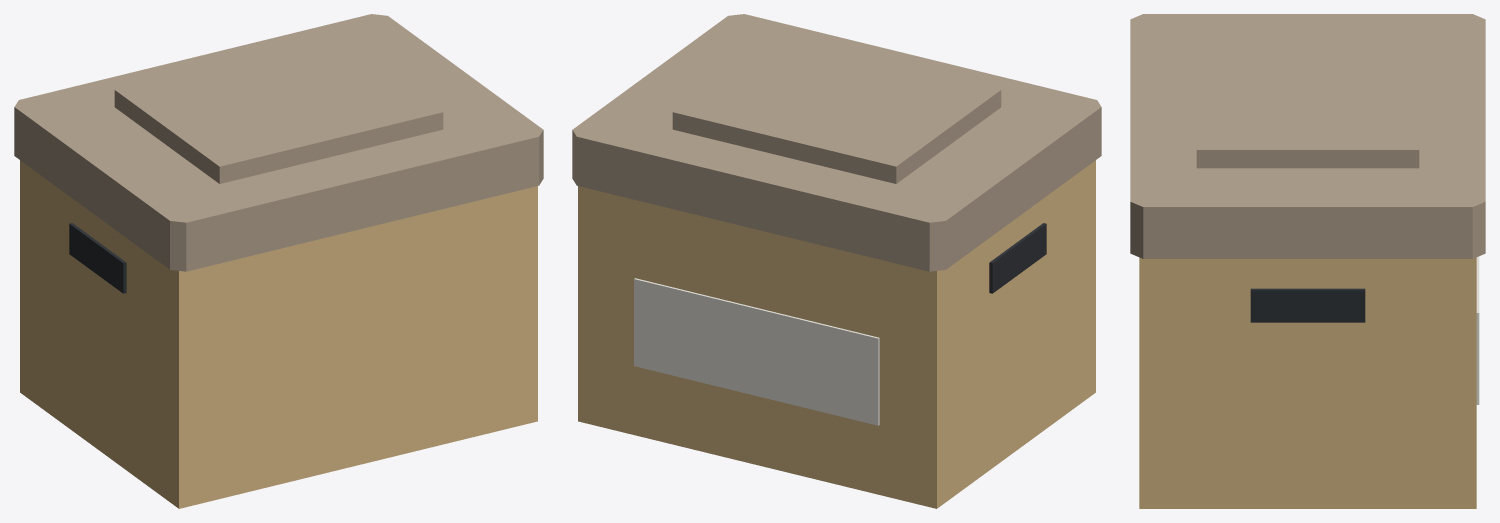
File: SM_LPI_Office_FileBox_01.fbx
3 views of the same model, side by side, from view 1: azimuth 30°, elevation 25°; view 2: azimuth 150°, elevation 25°; view 3: azimuth 270°, elevation 25° (orthographic). The views are drawn at different scales.
Parts seen in each view (by area): view 1: SM_LPI_Office_FileBox_01; view 2: SM_LPI_Office_FileBox_01; view 3: SM_LPI_Office_FileBox_01.
Part boxes in pixels (left/top/right/bottom): SM_LPI_Office_FileBox_01: left=14, top=14, right=543, bottom=508; SM_LPI_Office_FileBox_01: left=572, top=14, right=1101, bottom=508; SM_LPI_Office_FileBox_01: left=1130, top=14, right=1485, bottom=508.
Size of the model in its own units: 0.359 by 0.281 by 0.279.
